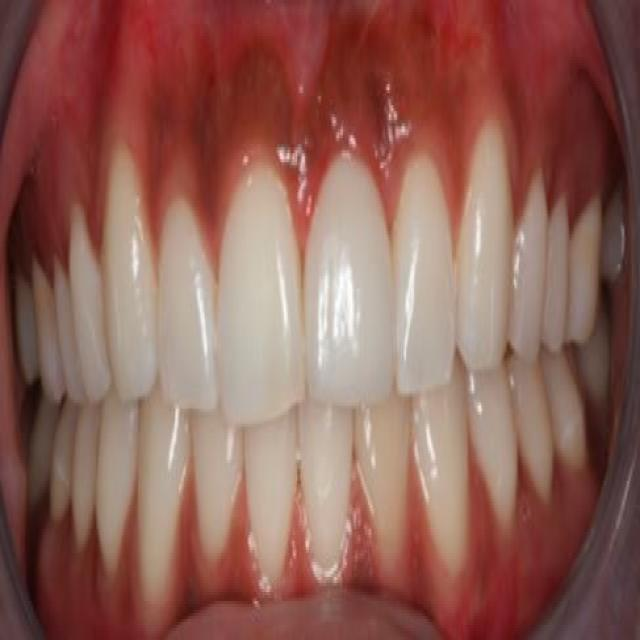1st Molar: (541, 352, 587, 472), (570, 198, 603, 345), (33, 258, 64, 401), (49, 409, 74, 520)
1st Premolar: (69, 207, 111, 401), (511, 177, 549, 367), (472, 370, 516, 530), (98, 403, 139, 573)
2nd Molar: (28, 403, 58, 505), (577, 323, 611, 403), (603, 187, 628, 285), (15, 277, 36, 382)
2nd Premolar: (508, 353, 554, 497), (54, 261, 82, 399), (545, 201, 570, 352), (74, 409, 99, 543)
Canine: (456, 120, 514, 373), (104, 140, 159, 406), (410, 370, 470, 578), (137, 387, 192, 613)
Central Incisor: (304, 153, 396, 409), (219, 165, 305, 422), (300, 403, 355, 586), (243, 418, 298, 587)
Lateral Incisor: (393, 156, 456, 400), (159, 201, 217, 412), (355, 400, 411, 569), (191, 415, 244, 564)
